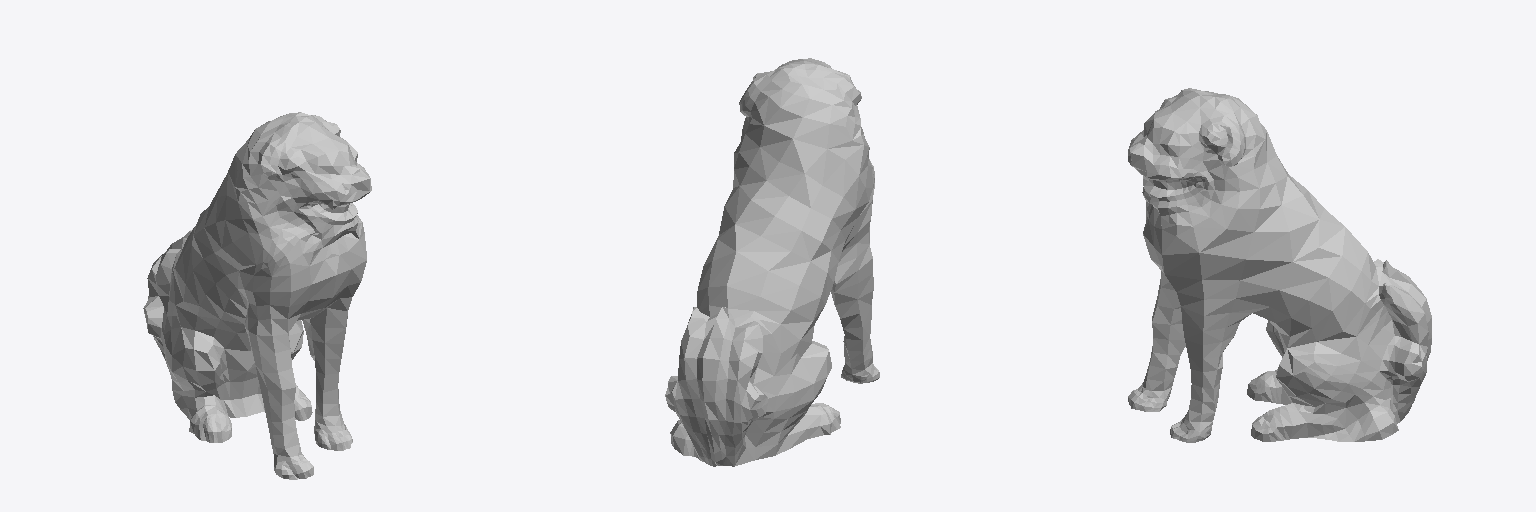
File: Low Rez Lion.obj
The picture shows the model from 3 angles: view 1: azimuth 30°, elevation 25°; view 2: azimuth 150°, elevation 25°; view 3: azimuth 270°, elevation 25°; orthographic projection.
Visible parts, largest first — view 1: polySurface8; view 2: polySurface8; view 3: polySurface8.
Boxes of the visible parts, x1=… form: polySurface8: x1=143, y1=112, x2=371, y2=479; polySurface8: x1=665, y1=58, x2=879, y2=466; polySurface8: x1=1128, y1=88, x2=1431, y2=442.
Size of the model in its own units: 53.28 by 125 by 106.